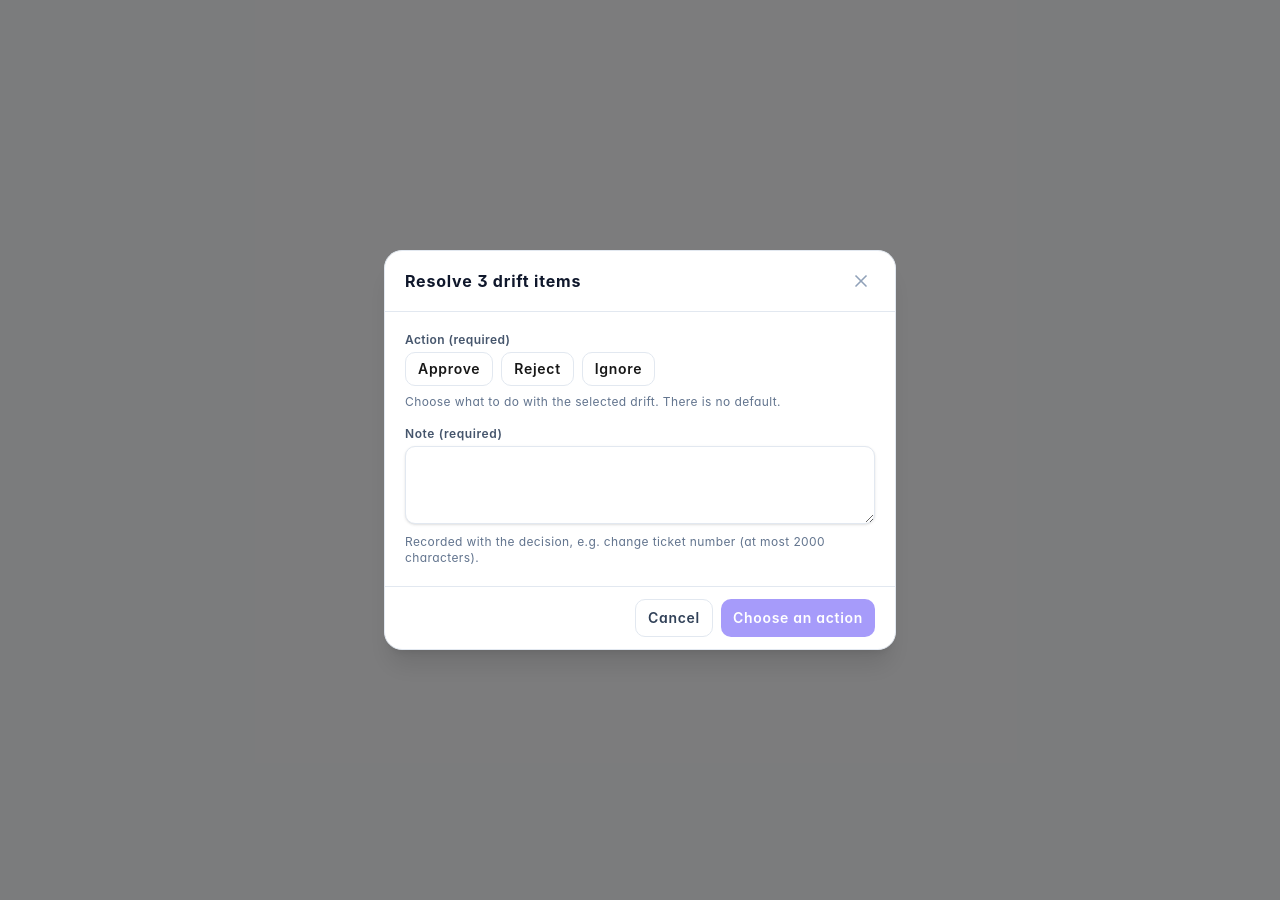
Test: ResolveModal › multi-item partial approve lists the items NOT approved with the reason and is not reported as success
This screenshot has width=1280, height=900.
Click the radio button labelled "Approve" at (449, 369), box [405, 352, 493, 386]
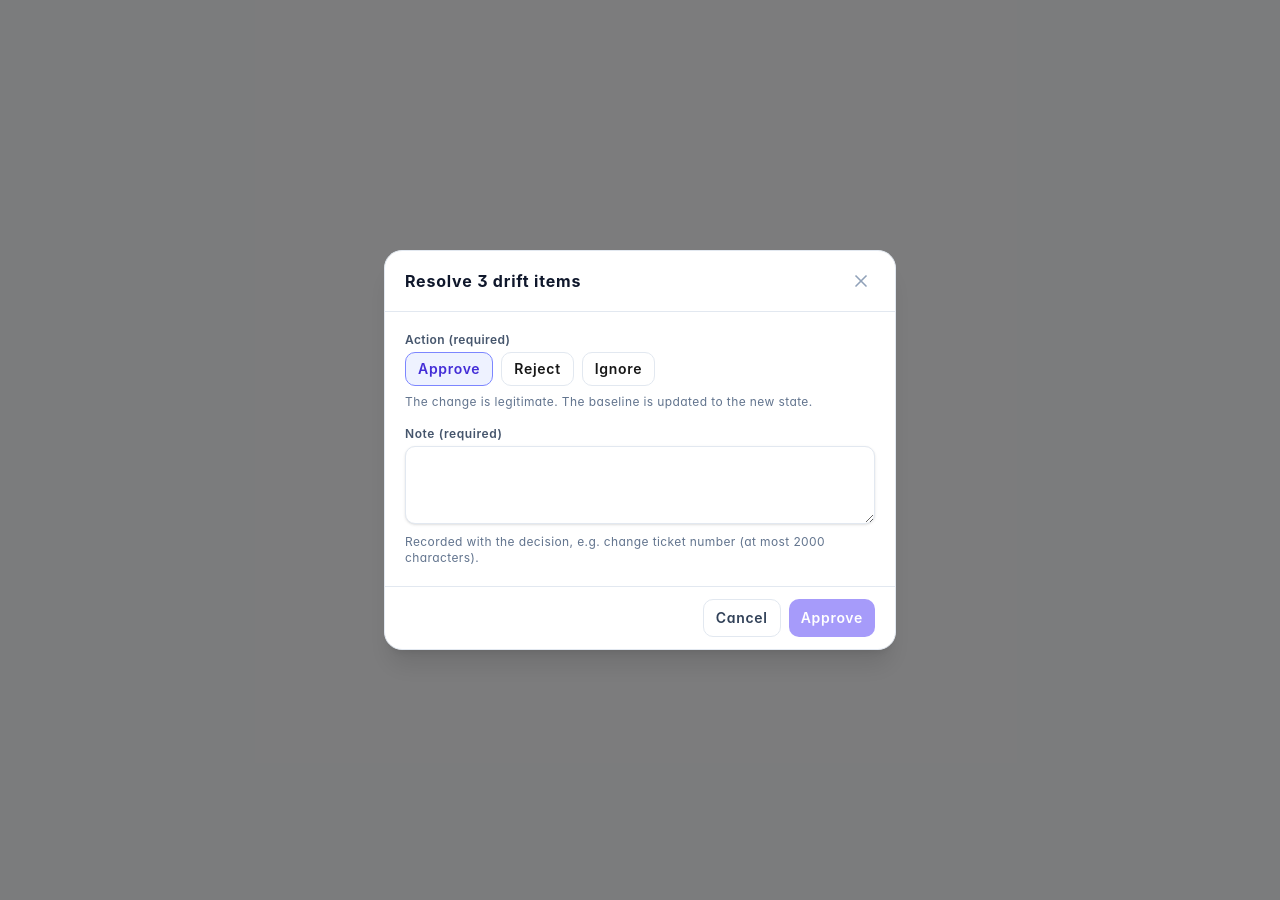
Type "CHG-1" into the text box labelled "Note (required)" at (640, 485), box [405, 446, 875, 524]
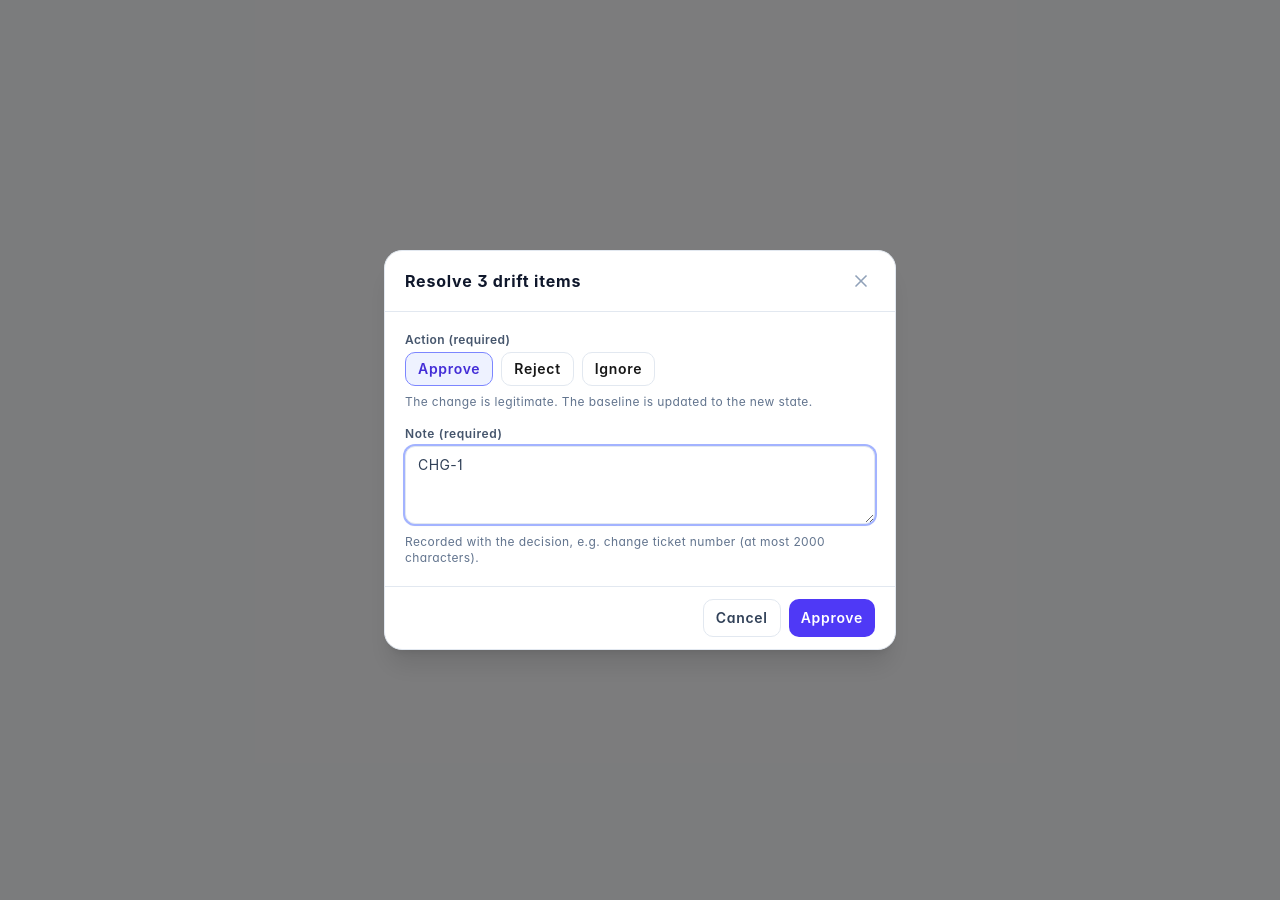
Click the button "Approve" at (832, 618), box [789, 599, 875, 637]
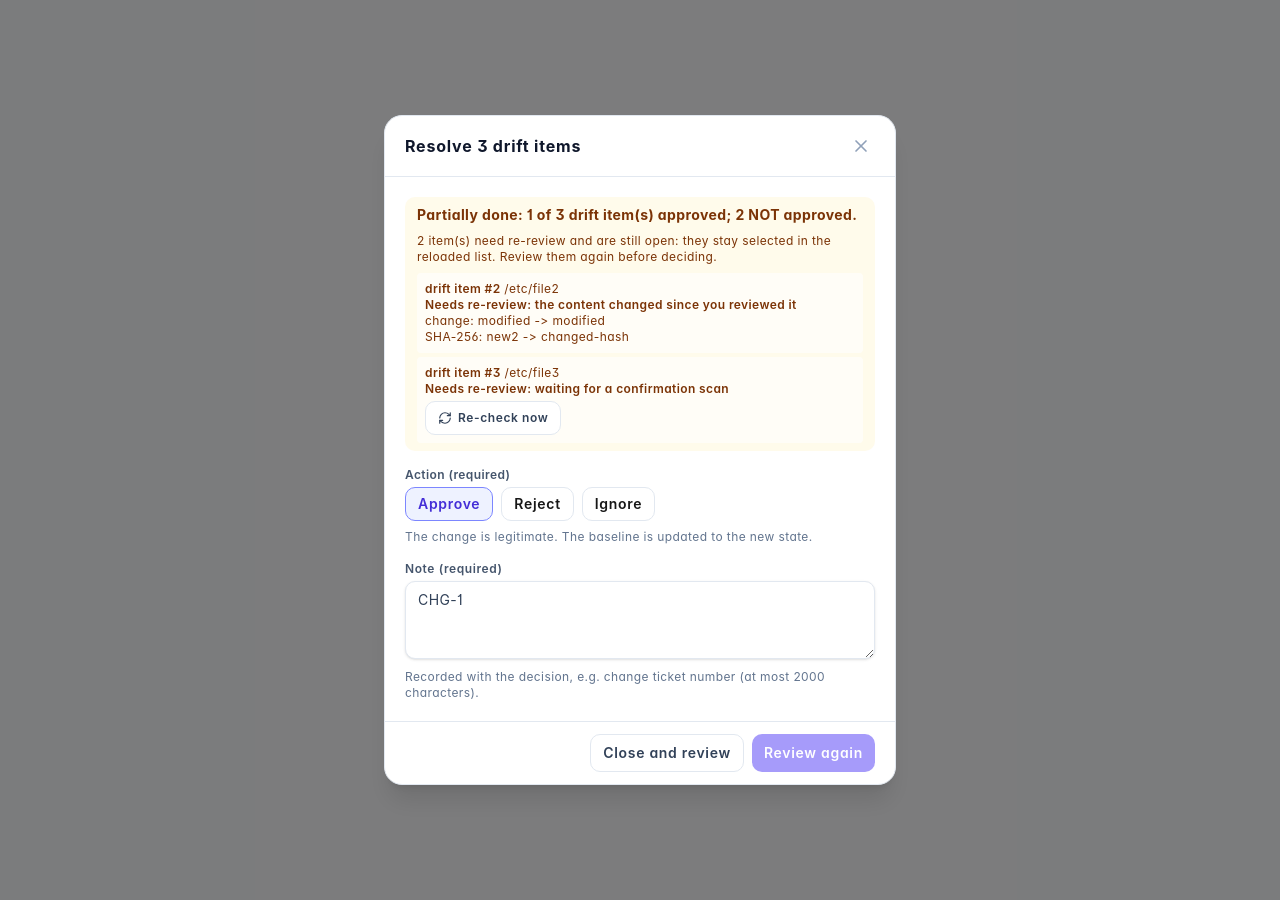
Expected: the message with test id "fim-bulk-refused" shows "1 of 3 drift item(s) approved; 2 NOT approved", [405, 197, 875, 451]
Expected: the text "Needs re-review: the content changed since you reviewed it" is shown, [425, 297, 855, 313]
Expected: the text "changed-hash" is shown, [541, 329, 629, 344]
